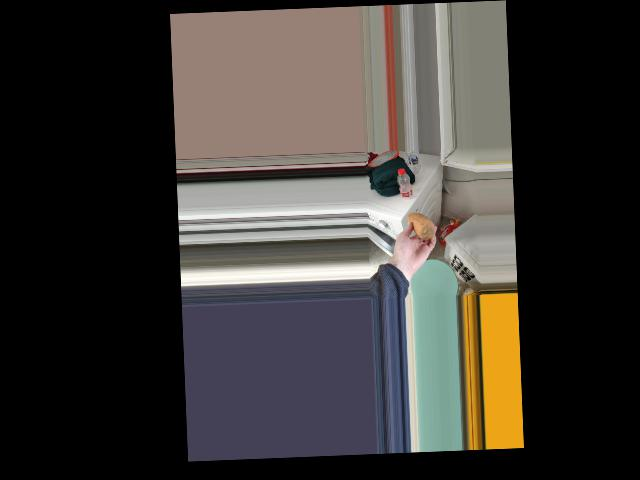sweet_potato: (404, 211, 432, 244)
